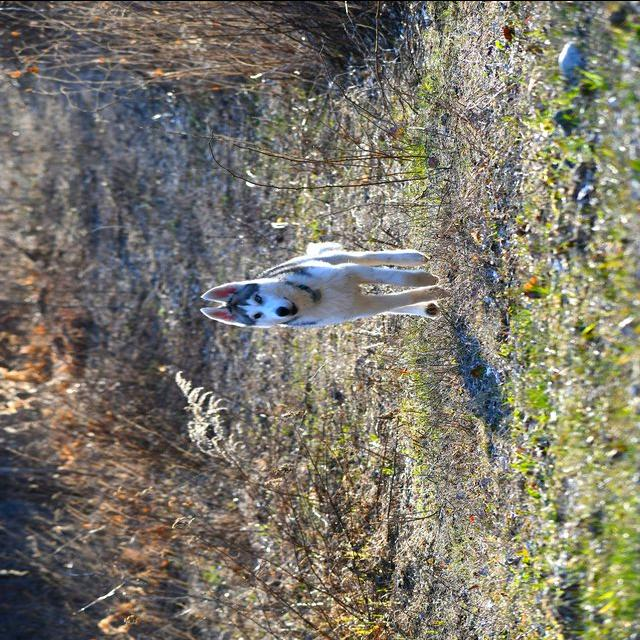husky: (198, 239, 446, 328)
